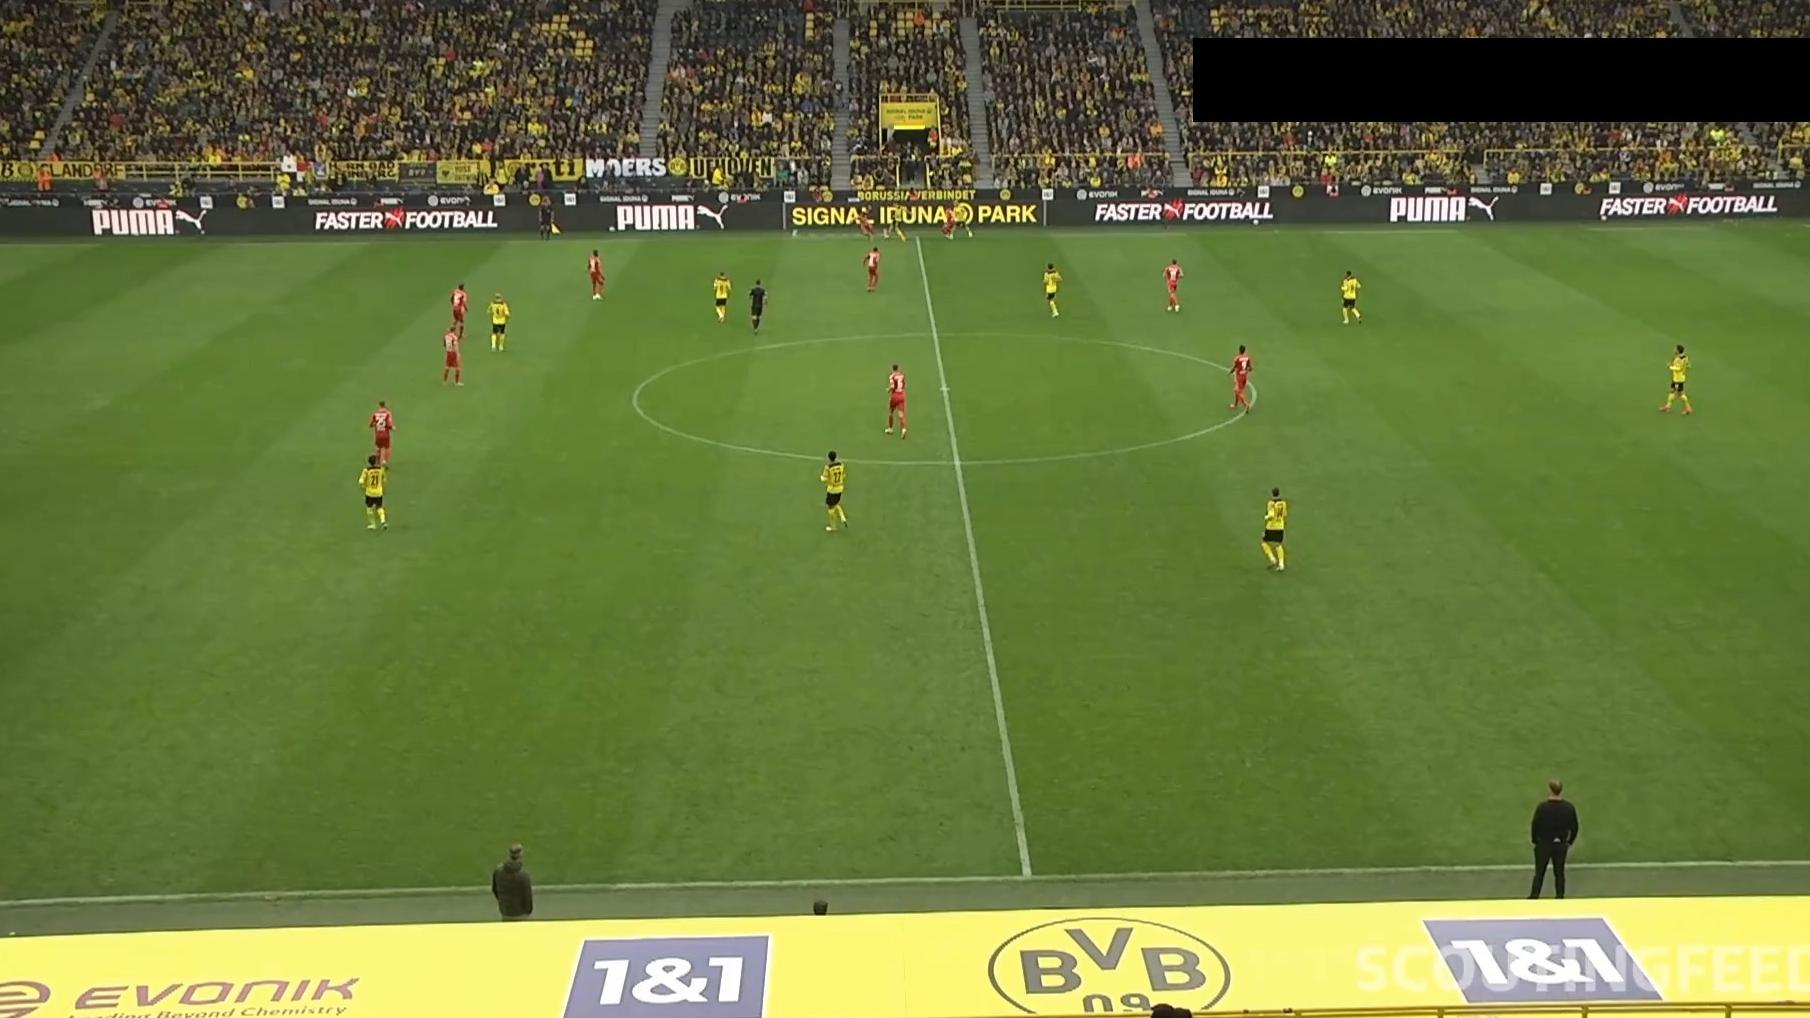ball: (881, 231, 891, 241)
